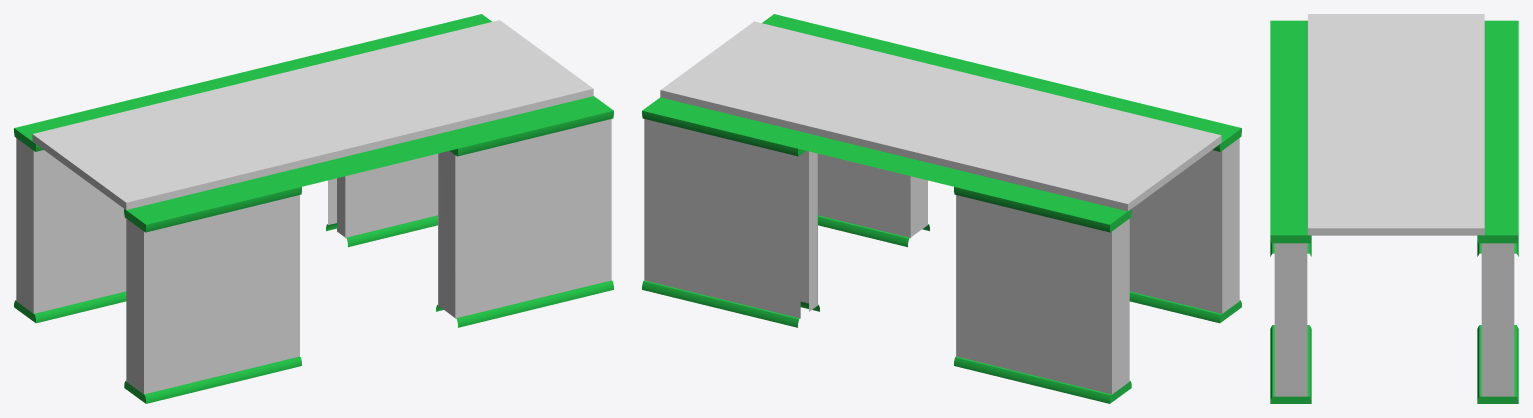
Rendered from Basic Hallway 01C_NF.fbx.
3 renders of one model, left to right at view 1: azimuth 30°, elevation 25°; view 2: azimuth 150°, elevation 25°; view 3: azimuth 270°, elevation 25°, orthographic. The views are drawn at different scales.
Parts seen in each view (by area): view 1: Plane_001; view 2: Plane_001; view 3: Plane_001.
Boxes of the visible parts, x1,y1,x2,y2 form: Plane_001: [14, 14, 613, 403]; Plane_001: [642, 14, 1241, 403]; Plane_001: [1270, 14, 1518, 403].
Bounding box in the file's own units: 1258 × 479 × 615.
